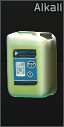Alkaline cleaner for heat exchangers: (0, 0, 64, 127)
